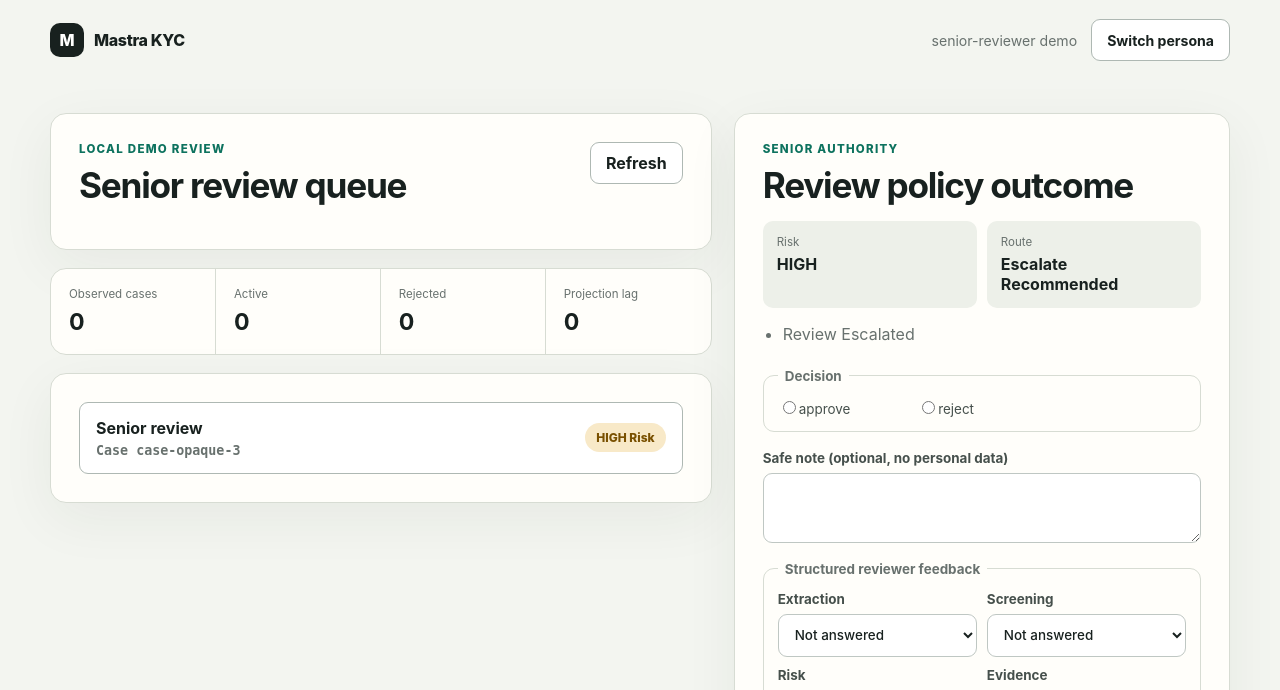
Test: companion portal in Chromium › opens a senior review from an opaque hash route and records a rejection note
This screenshot has width=1280, height=690.
Check: the heading "Senior review queue" is shown, box [79,166,406,205]
Check: the heading "Review policy outcome" is shown, box [763,164,1133,206]
Click the radio button labelled "reject" at (929, 407), box [922,401,935,414]
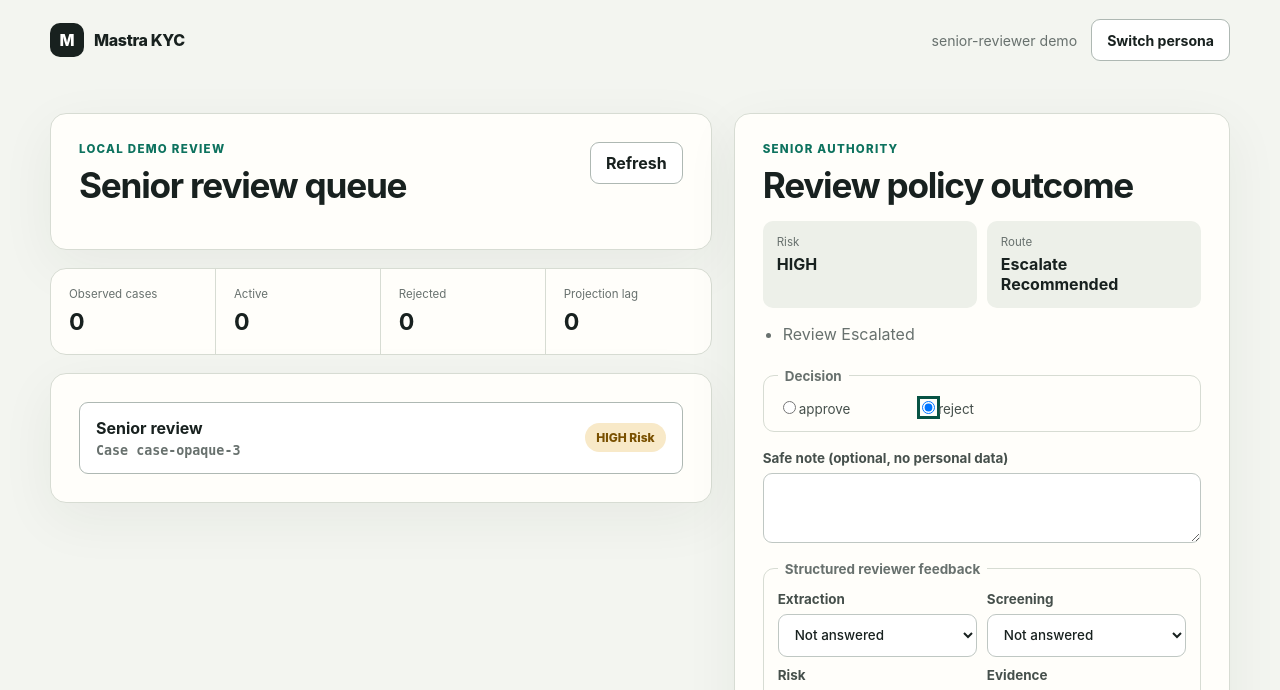
Type "Policy mismatch confirmed" into the text box labelled "Safe note (optional, no personal data)" at (982, 508), box [763,473,1201,543]
(page scrolled)
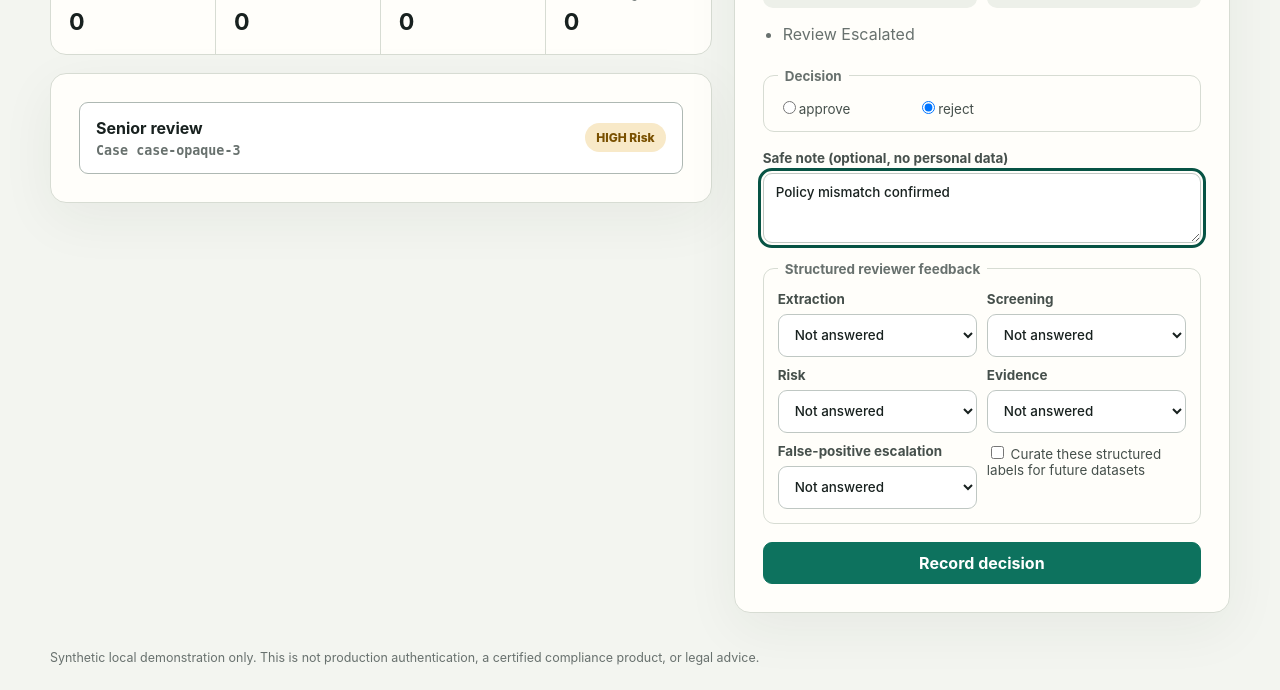
Click the button "Record decision" at (982, 563), box [763,542,1201,584]
(page scrolled)
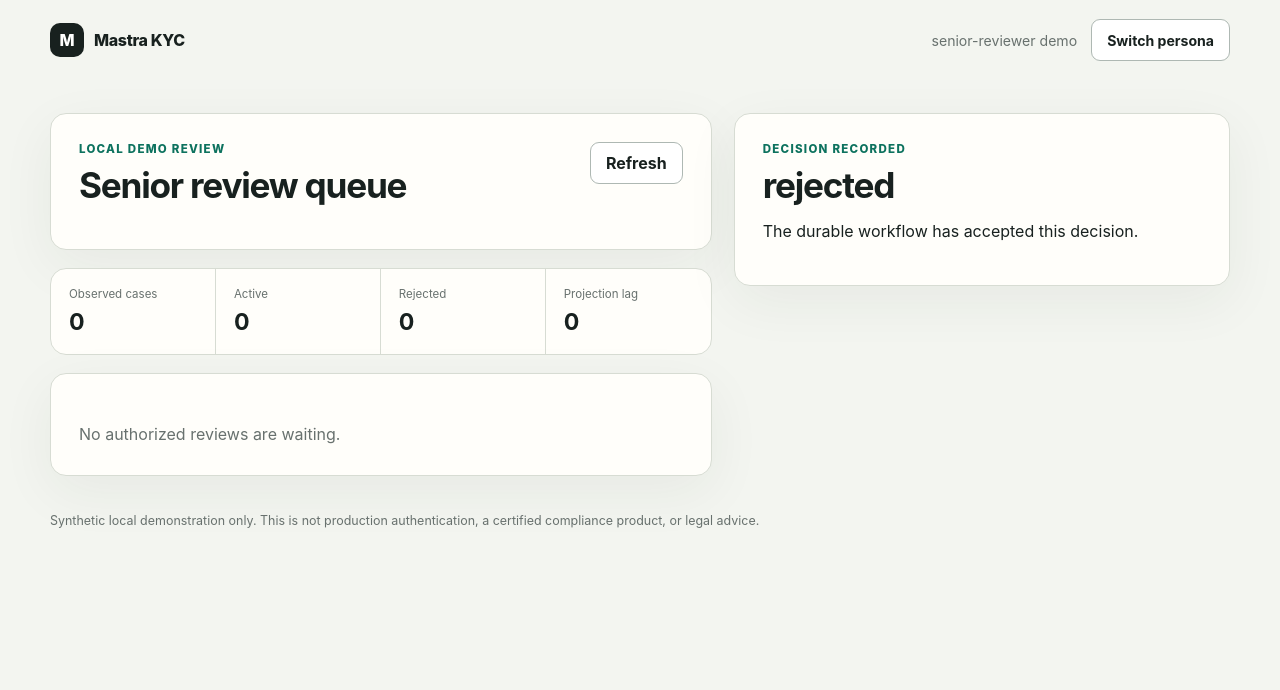
Check: the heading "rejected" is shown, box [763,164,894,206]
